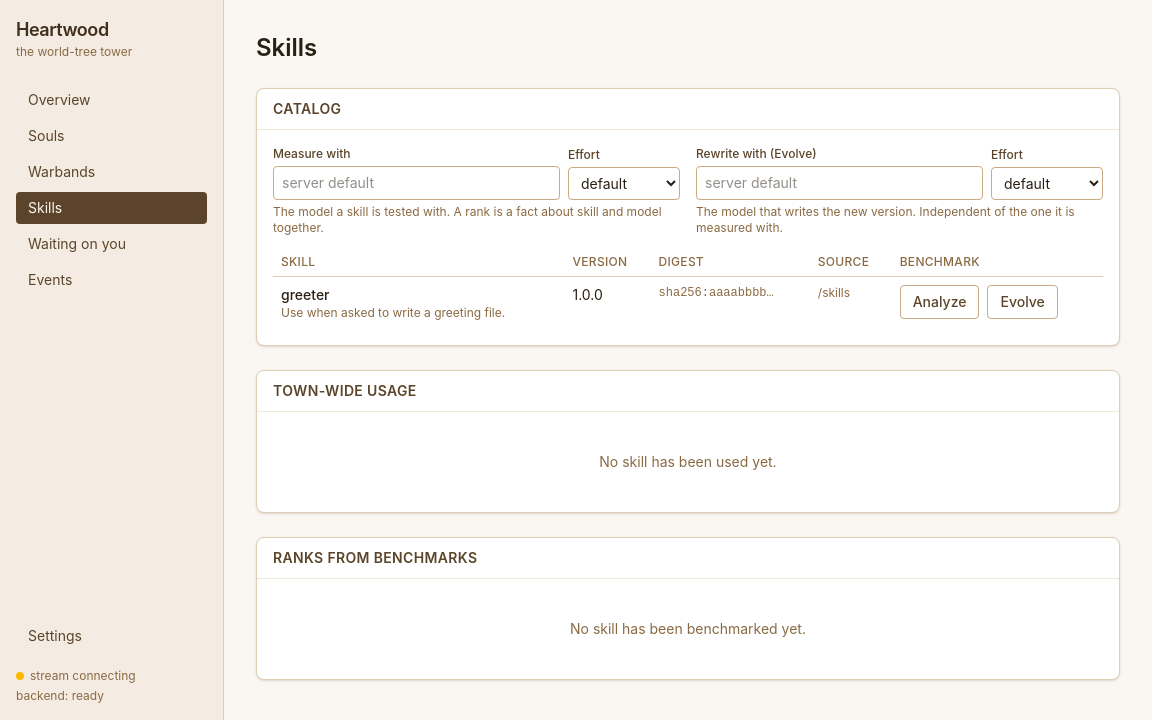
Test case: pages › skills catalog actions › Evolve sends both choices: what to measure with and what writes the new version
Type "a/bench:low" into the field labelled "Measure with" at (416, 183), box [273, 166, 560, 200]
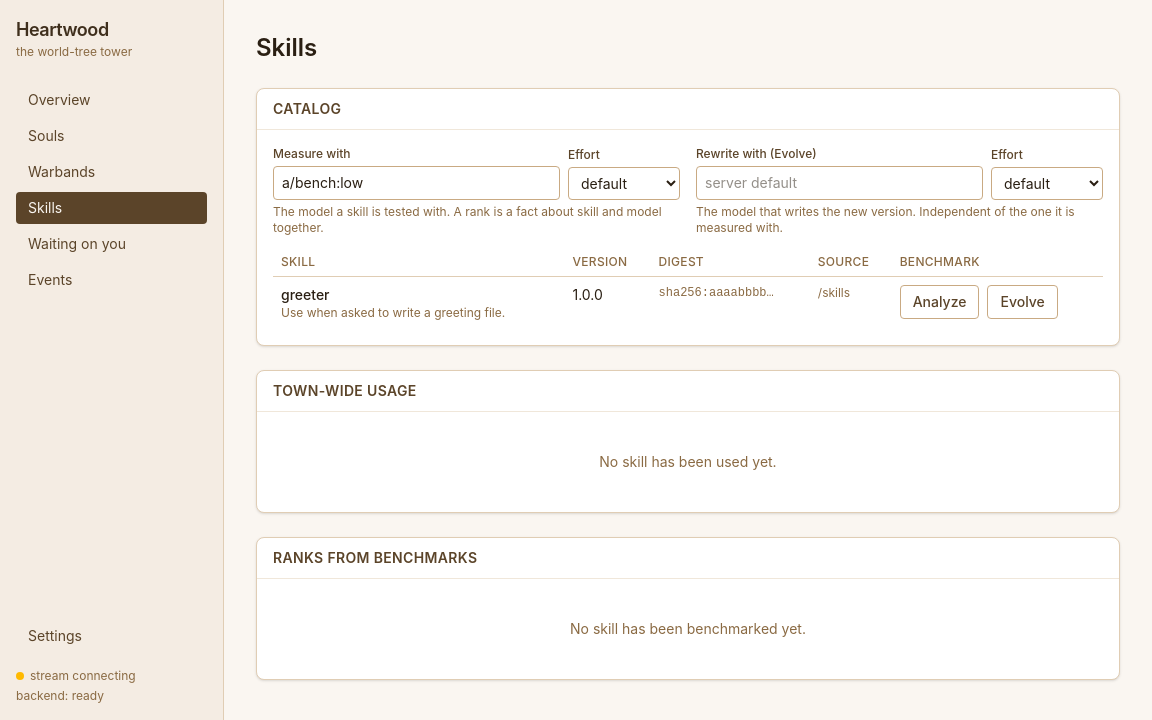
Type "b/writer" into the field labelled "Rewrite with (Evolve)" at (840, 183), box [696, 166, 983, 200]
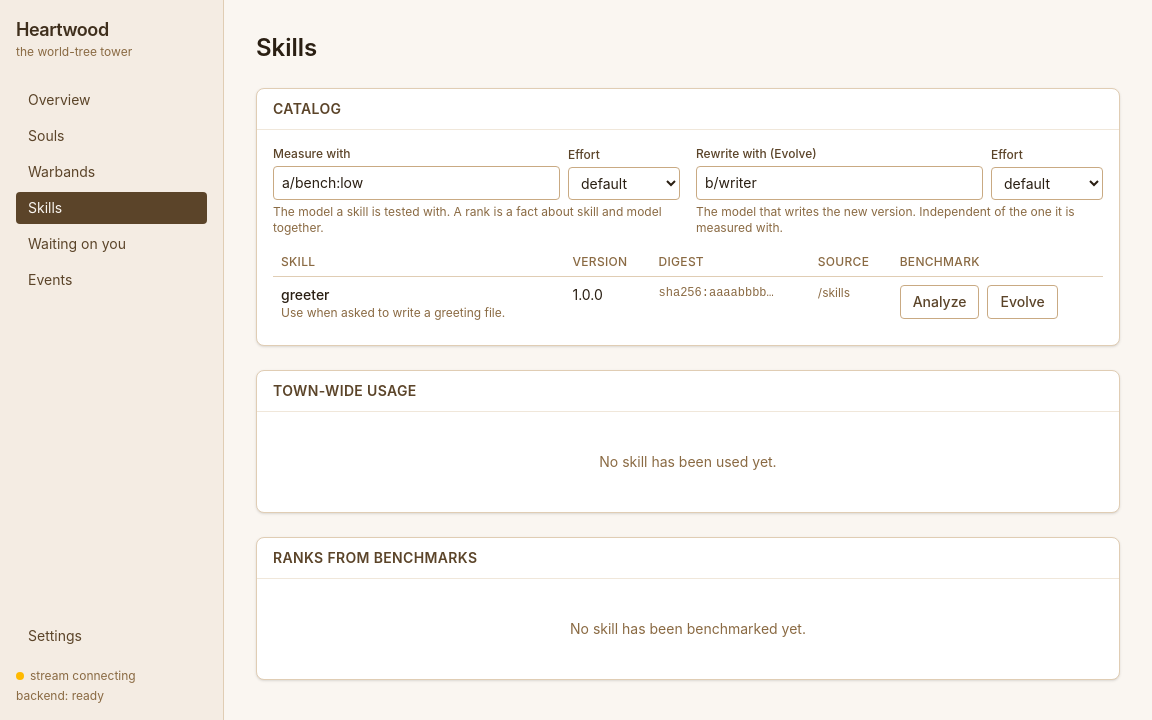
Select "max" in the dropdown named "Rewrite with (Evolve) effort" at (1047, 184), box [991, 167, 1103, 200]
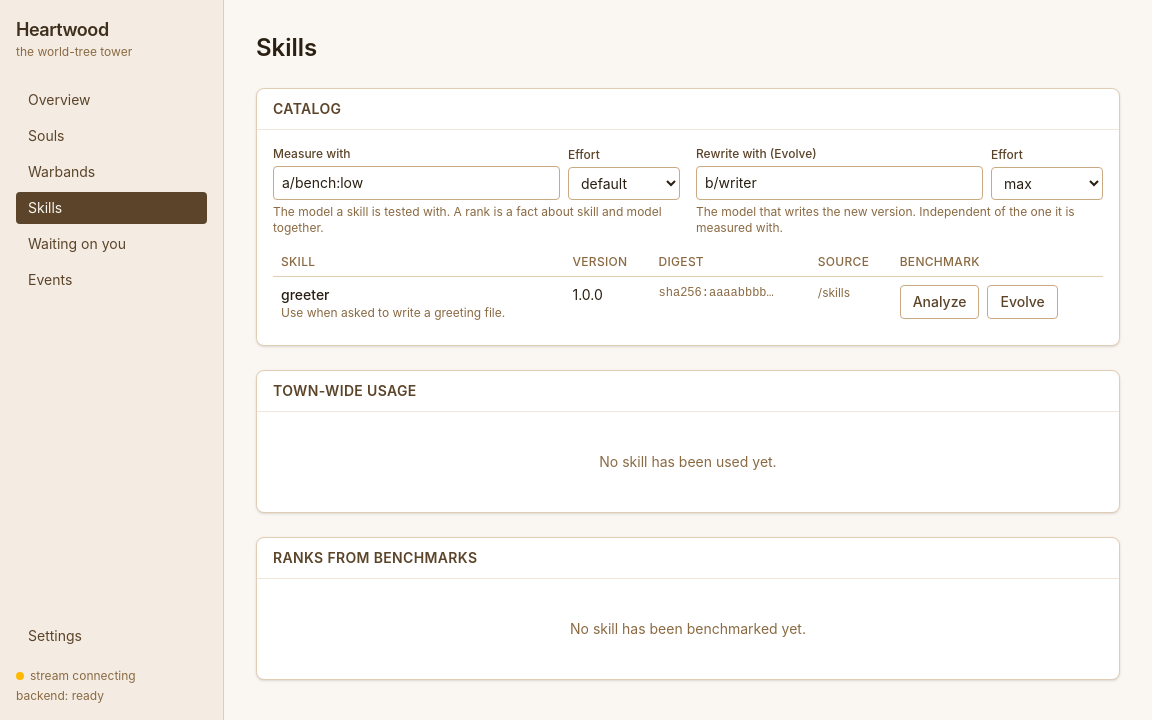
Click the button "Evolve" at (1023, 302), box [988, 285, 1058, 319]
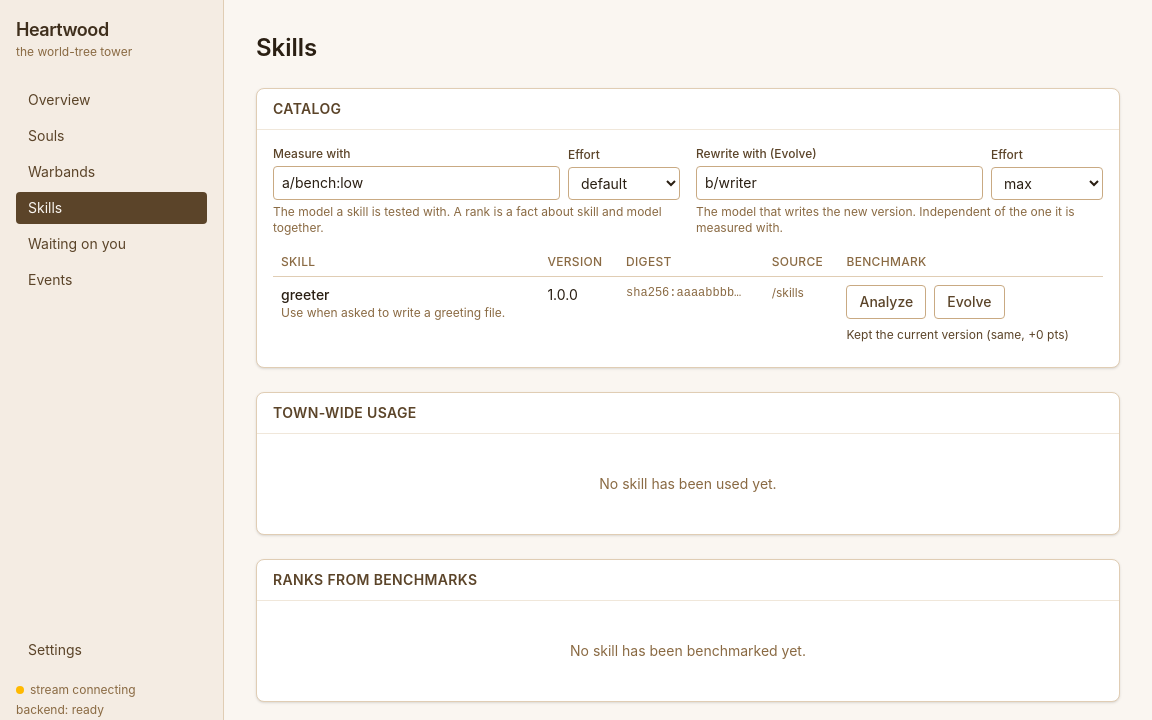
Result: the text "Kept the current version (same, +0 pts)" is shown at [846, 327, 1095, 343]
